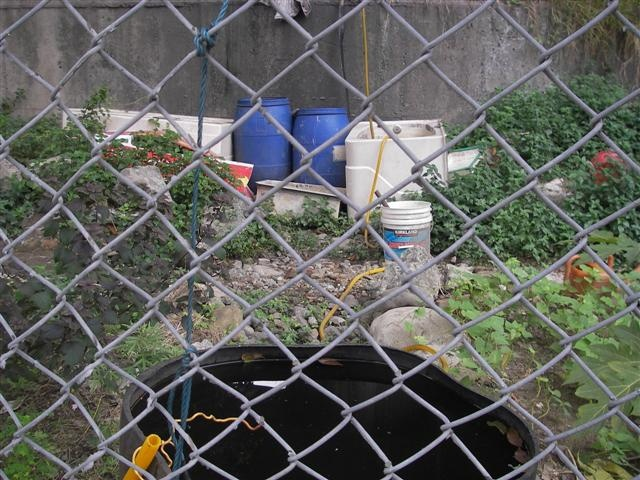box: (63, 106, 235, 162), (255, 178, 348, 220)
bucket: (234, 96, 292, 192), (289, 105, 347, 187), (378, 199, 433, 262)
washing_machine: (345, 119, 446, 226)
